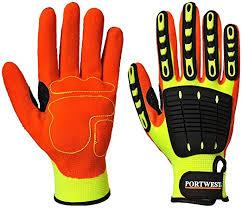gloves: (1, 1, 124, 206), (128, 2, 241, 206)
